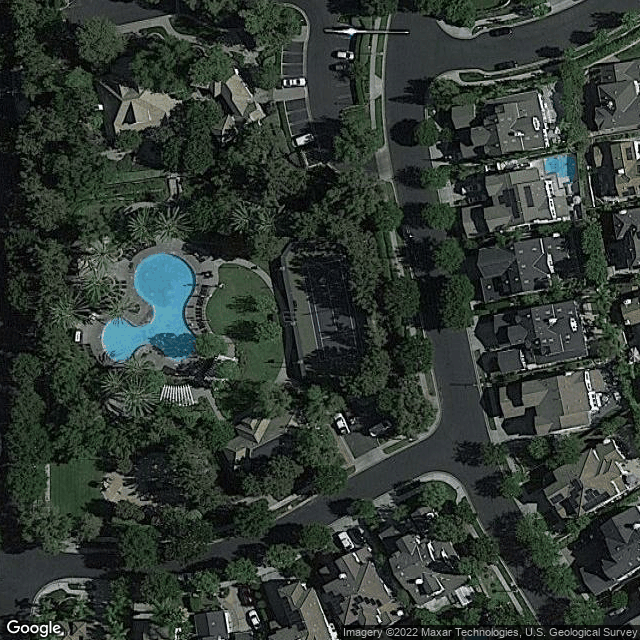Court: (299, 260, 365, 362)
